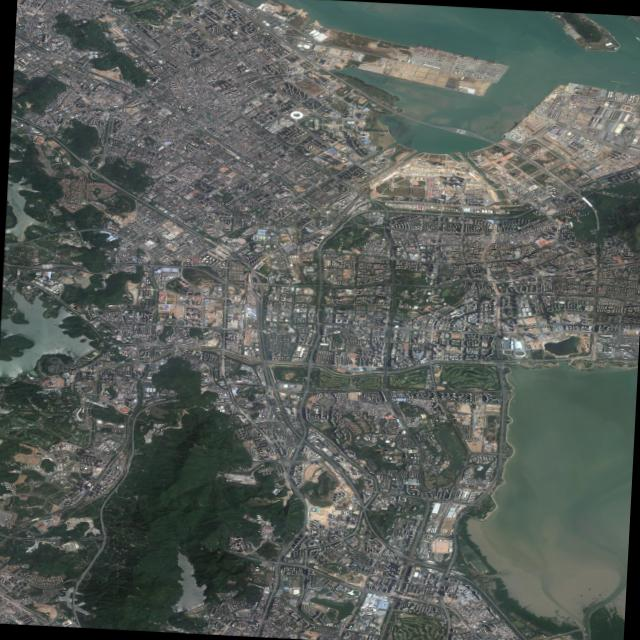ship: (522, 34, 525, 36), (635, 37, 638, 39), (534, 54, 536, 55)
storage-tank: (631, 97, 633, 99), (606, 96, 609, 97), (627, 100, 629, 101), (629, 99, 631, 100), (582, 175, 584, 176), (585, 176, 587, 177), (586, 177, 588, 178), (617, 100, 619, 101), (608, 92, 610, 93), (607, 94, 609, 95), (610, 92, 612, 93), (610, 93, 612, 94), (609, 95, 611, 96), (609, 96, 611, 97), (630, 96, 632, 97), (629, 97, 631, 98), (632, 96, 634, 97), (584, 176, 585, 177), (619, 100, 620, 101), (629, 100, 630, 101), (624, 94, 625, 95), (625, 94, 626, 95), (580, 176, 581, 177), (581, 176, 582, 177), (585, 175, 586, 176), (581, 177, 582, 178), (618, 97, 619, 98), (608, 93, 609, 94), (614, 98, 615, 99), (614, 99, 615, 100), (628, 99, 629, 99), (624, 95, 625, 95), (625, 95, 625, 95), (583, 175, 585, 175), (582, 177, 584, 177), (616, 100, 617, 100), (616, 97, 618, 97), (614, 98, 615, 98)
